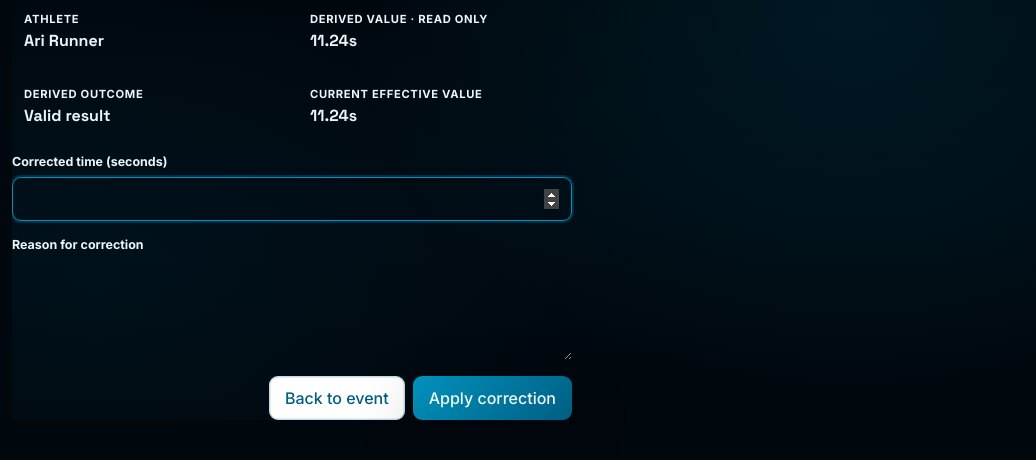
Test: ResultCorrectionForm › rejects sub-hundredth precision that the result board cannot display
The width and height of the screenshot is (1036, 460).
Step 1. Type "10.987" into the number field labelled "Corrected time (seconds)" → (292, 199), box [12,177,572,221]
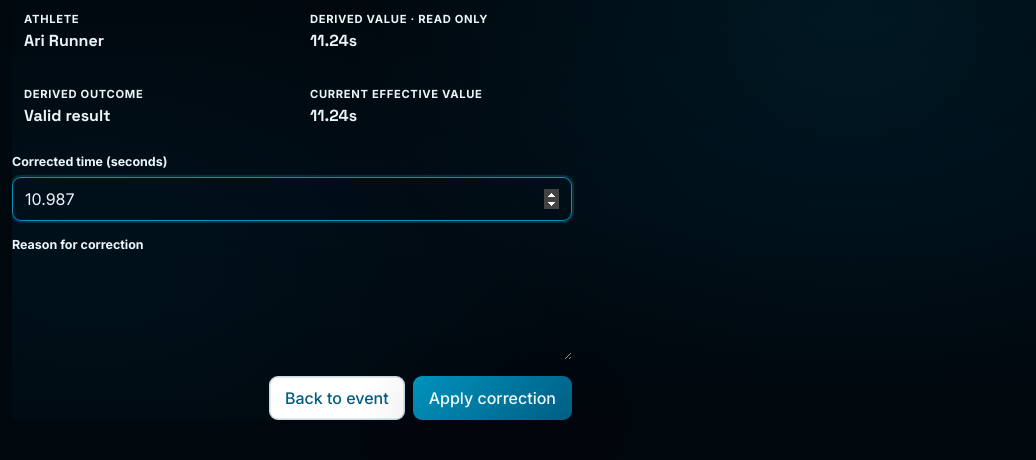
Step 2. Type "Camera review" into the text box labelled "Reason for correction" → (292, 310), box [12,260,572,360]
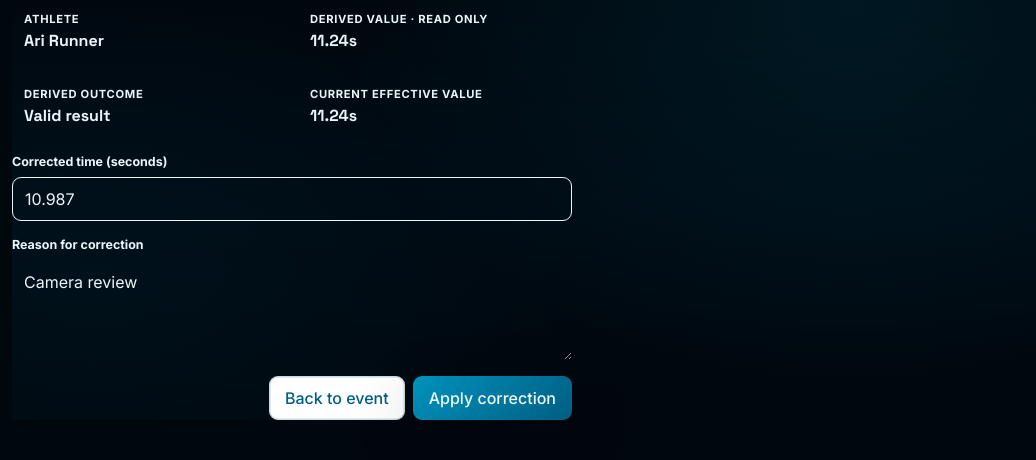
Step 3. Click the button "Apply correction" → (492, 398), box [413,376,572,420]
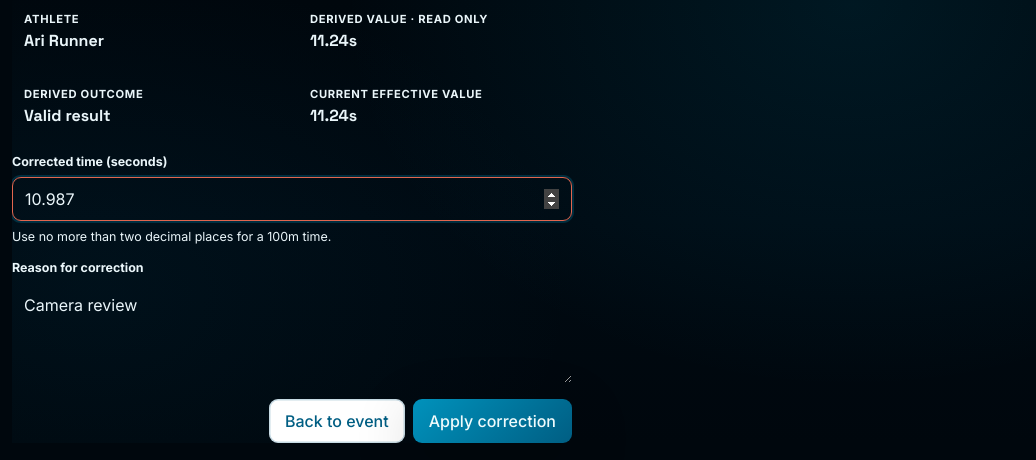
Check: the text "Use no more than two decimal places for a 100m time." is shown, box [12,229,331,244]
